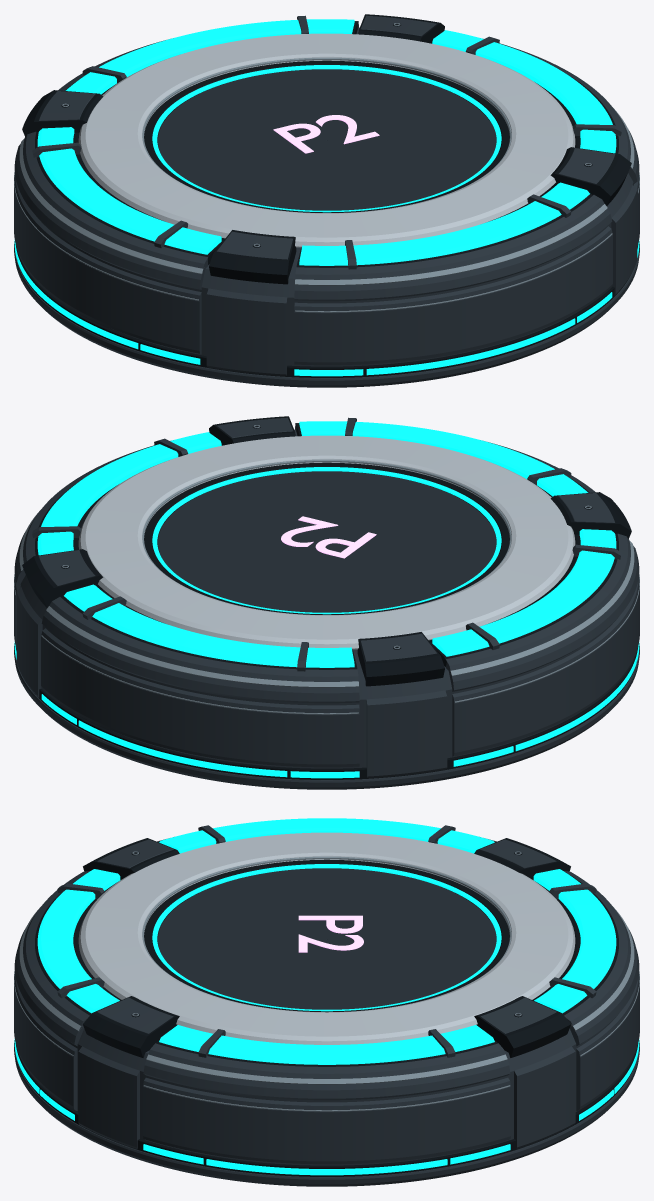
Rendered from Standard.fbx.
3 views of the same model, one above another, from view 1: azimuth 30°, elevation 25°; view 2: azimuth 150°, elevation 25°; view 3: azimuth 270°, elevation 25° (orthographic).
Parts seen in each view (by area): view 1: SM_Puck_Standard_P2_HighDetail; view 2: SM_Puck_Standard_P2_HighDetail; view 3: SM_Puck_Standard_P2_HighDetail.
Boxes of the visible parts, x1,y1,x2,y2 form: SM_Puck_Standard_P2_HighDetail: (14, 14, 639, 387); SM_Puck_Standard_P2_HighDetail: (14, 416, 639, 789); SM_Puck_Standard_P2_HighDetail: (14, 818, 639, 1186).
Size of the model in its own units: 90 by 90 by 20.
